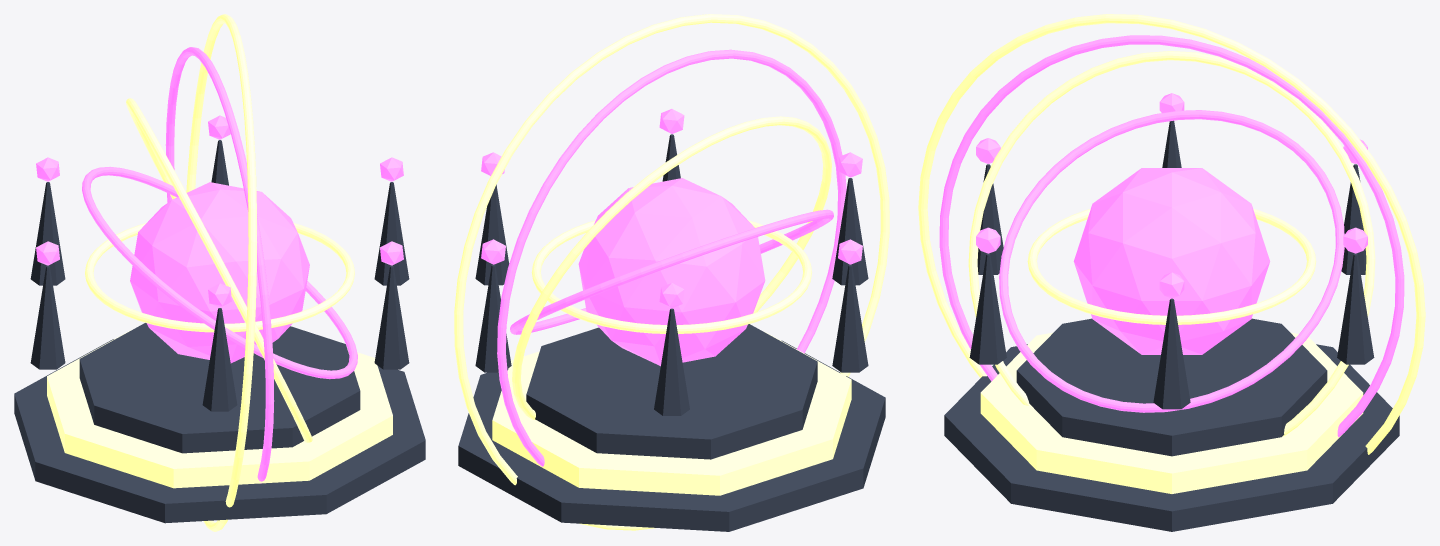
Rendered from gpu-blender-v41.glb.
3 views of the same model, side by side, from view 1: azimuth 30°, elevation 25°; view 2: azimuth 150°, elevation 25°; view 3: azimuth 270°, elevation 25° (orthographic). The views are drawn at different scales.
Visible parts, largest first — view 1: Cylinder.002, Cylinder, SovereignCore_zoth-scene-foundry, Cylinder.001, Torus.004, Torus.003, Torus.001, Torus, Torus.002, Cone.004, Cone.003, Cone.005 (+3 smaller); view 2: Cylinder.002, SovereignCore_zoth-scene-foundry, Cylinder, Cylinder.001, Torus.004, Torus.003, Torus.002, Torus.001, Torus, Cone.003, Cone.002, Cone.001 (+2 smaller); view 3: SovereignCore_zoth-scene-foundry, Cylinder.002, Cylinder, Cylinder.001, Torus.004, Torus.001, Torus.003, Torus.002, Torus, Cone, Cone.001, Cone.005 (+3 smaller).
Boxes of the visible parts, x1,y1,x2,y2 form: Cylinder.002: (79, 323, 360, 453); Cylinder: (14, 339, 425, 523); SovereignCore_zoth-scene-foundry: (130, 182, 309, 363); Cylinder.001: (47, 330, 392, 488); Torus.004: (186, 14, 257, 531); Torus.003: (165, 47, 274, 483); Torus.001: (82, 166, 357, 379); Torus: (85, 223, 354, 332); Torus.002: (126, 98, 312, 442); Cone.004: (202, 308, 237, 411); Cone.003: (30, 266, 65, 369); Cone.005: (374, 266, 409, 369); Cylinder.002: (526, 324, 817, 459); SovereignCore_zoth-scene-foundry: (578, 178, 765, 366); Cylinder: (458, 340, 885, 531); Cylinder.001: (492, 331, 851, 495); Torus.004: (454, 14, 889, 530); Torus.003: (497, 49, 846, 466); Torus.002: (512, 116, 831, 419); Torus.001: (510, 209, 833, 334); Torus: (531, 220, 812, 333); Cone.003: (832, 265, 868, 372); Cone.002: (654, 308, 689, 415); Cone.001: (475, 265, 511, 372); SovereignCore_zoth-scene-foundry: (1073, 168, 1270, 354); Cylinder.002: (1016, 318, 1327, 456); Cylinder: (944, 344, 1399, 531); Cylinder.001: (980, 332, 1363, 493); Torus.004: (918, 14, 1425, 454); Torus.001: (999, 110, 1344, 412); Torus.003: (939, 35, 1404, 437); Torus.002: (968, 51, 1375, 435); Torus: (1027, 209, 1316, 324); Cone: (1153, 298, 1190, 409); Cone.001: (1337, 254, 1374, 364); Cone.005: (969, 254, 1006, 364).
Size of the model in its own units: 4.41 by 5.33 by 4.9.
